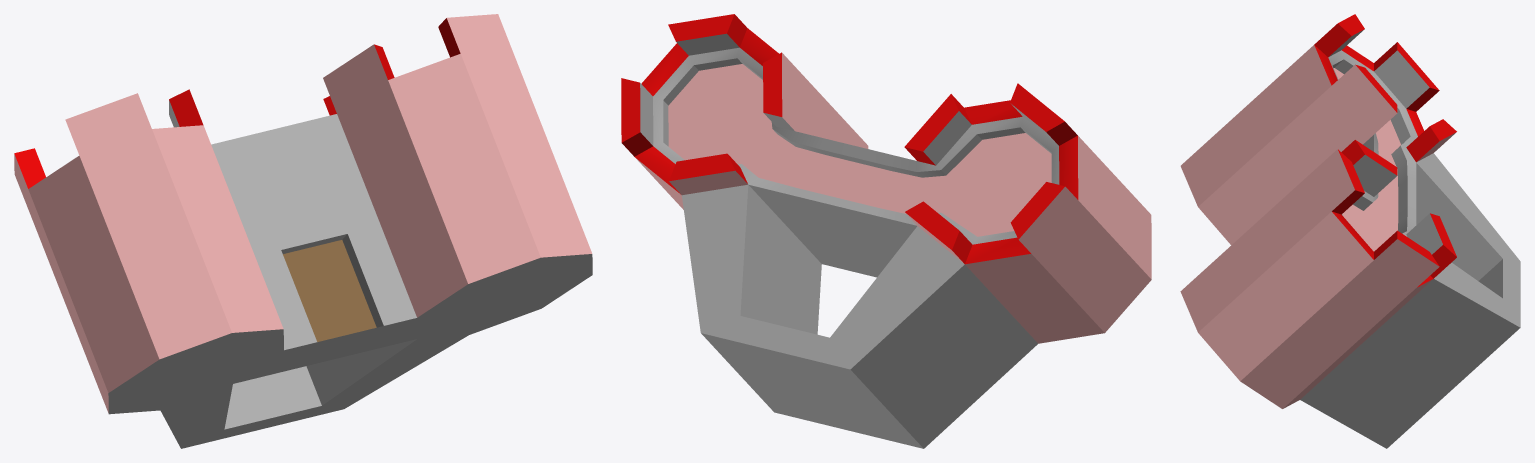
Rendered from village_fort 1.fbx.
3 views of the same model, side by side, from view 1: azimuth 30°, elevation 25°; view 2: azimuth 150°, elevation 25°; view 3: azimuth 270°, elevation 25° (orthographic). The views are drawn at different scales.
Parts seen in each view (by area): view 1: fort; view 2: fort; view 3: fort.
Part boxes in pixels (x1,y1,x2,y2): fort: (14,14,592,448); fort: (621,14,1151,448); fort: (1180,14,1520,448).
Size of the model in its own units: 1.4 by 1.09 by 1.02.
